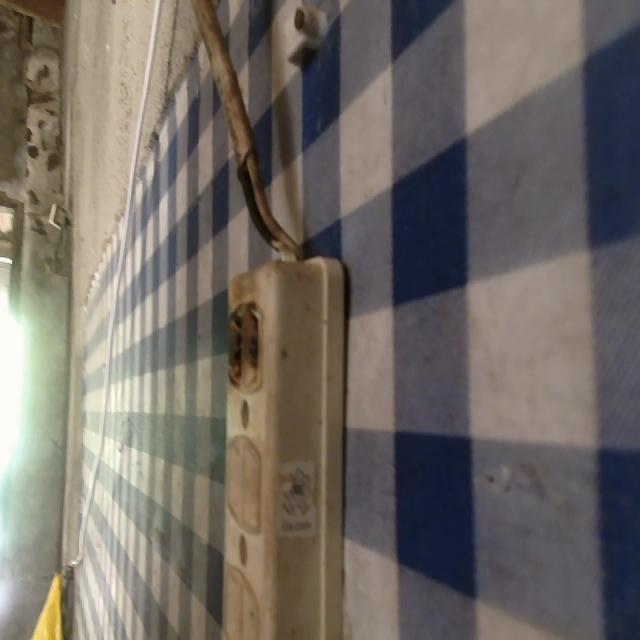-: (217, 297, 280, 392)
